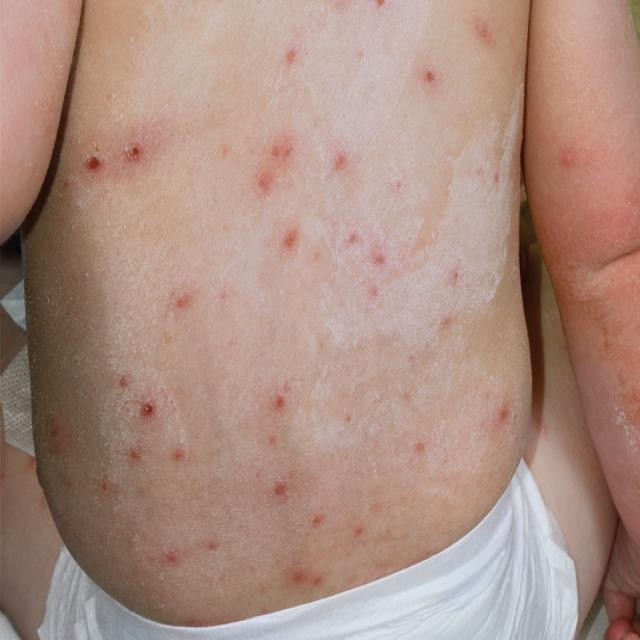herpes zoster: (74, 133, 158, 189), (116, 375, 158, 469), (325, 140, 349, 180), (250, 162, 272, 204), (494, 393, 516, 431)
